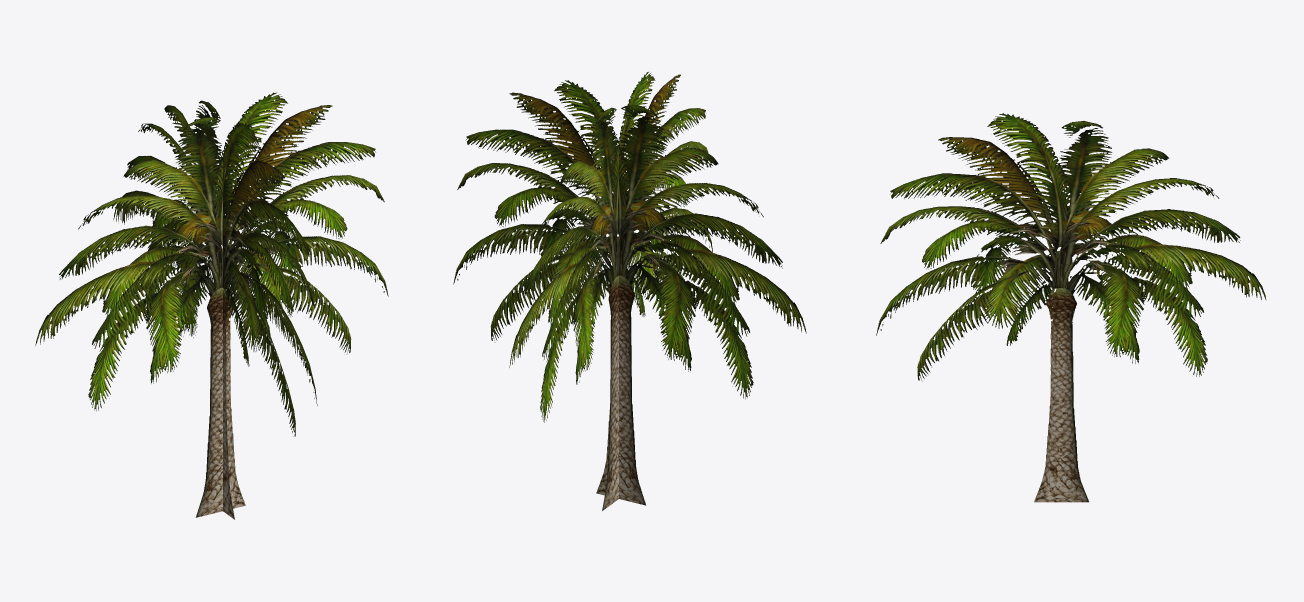
Rendered from Tree_DatePlam_A_Lod3.fbx.
The picture shows the model from 3 angles, left to right: view 1: azimuth 30°, elevation 25°; view 2: azimuth 150°, elevation 25°; view 3: azimuth 270°, elevation 25°; orthographic projection. The views are drawn at different scales.
Parts seen in each view (by area): view 1: Tree_DatePlam_A_Lod3; view 2: Tree_DatePlam_A_Lod3; view 3: Tree_DatePlam_A_Lod3.
Boxes of the visible parts, x1,y1,x2,y2 form: Tree_DatePlam_A_Lod3: (35, 92, 388, 519); Tree_DatePlam_A_Lod3: (453, 72, 806, 510); Tree_DatePlam_A_Lod3: (876, 113, 1266, 502).
Size of the model in its own units: 1027 by 1022 by 1027.
Materials: 1 (1 with a texture image).
